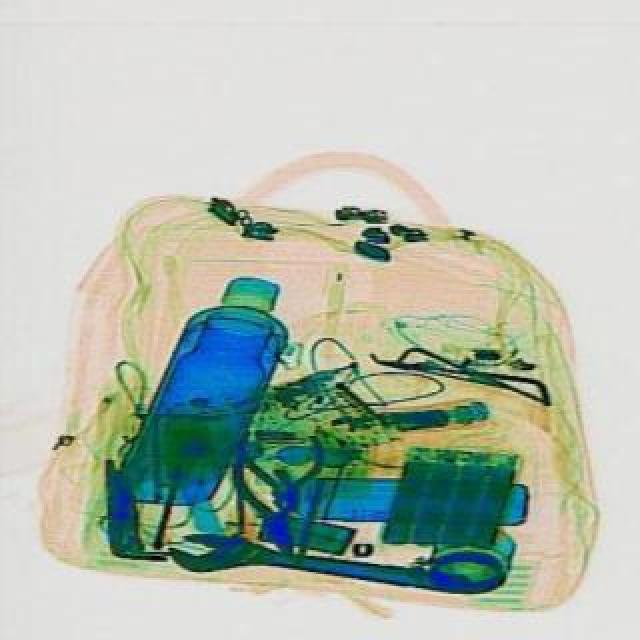scissors: (164, 526, 468, 600)
wrench: (232, 422, 326, 518), (226, 452, 302, 558)
